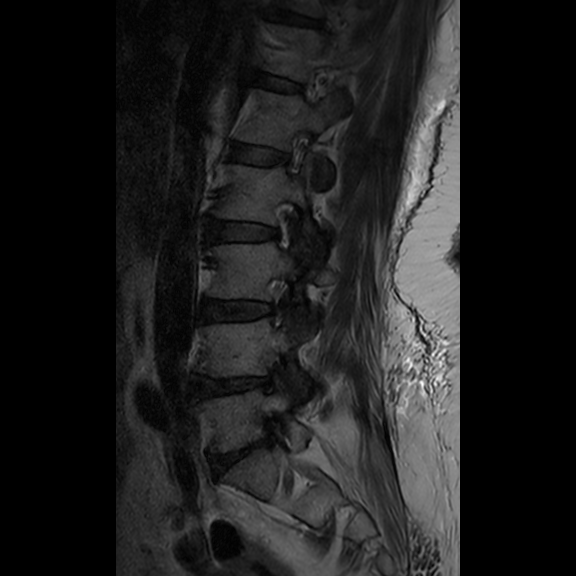RFS0: (267, 120, 317, 186), (258, 190, 306, 258)
RFS1: (250, 265, 303, 338)
